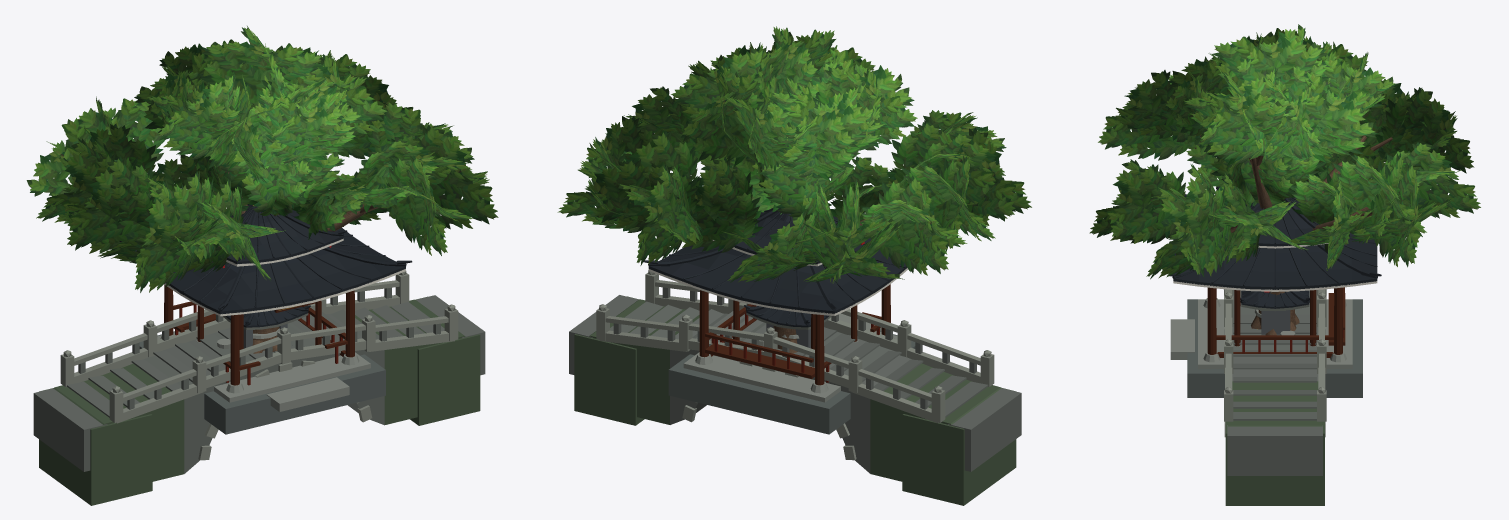
File: v060_jiangnan_assets.glb
The picture shows the model from 3 angles, left to right: view 1: azimuth 30°, elevation 25°; view 2: azimuth 150°, elevation 25°; view 3: azimuth 270°, elevation 25°; orthographic projection. The views are drawn at different scales.
Visible parts, largest first — view 1: ancient_camphor, stone_arch_bridge, wangdao_pavilion, wayside_shrine, poem_stele_pavilion; view 2: ancient_camphor, stone_arch_bridge, wangdao_pavilion, wayside_shrine, poem_stele_pavilion; view 3: ancient_camphor, stone_arch_bridge, wangdao_pavilion, wayside_shrine, poem_stele_pavilion.
Boxes of the visible parts, x1,y1,x2,y2 form: ancient_camphor: (26, 26, 498, 353); stone_arch_bridge: (33, 271, 485, 505); wangdao_pavilion: (119, 204, 412, 434); wayside_shrine: (223, 305, 310, 348); poem_stele_pavilion: (196, 300, 321, 352); ancient_camphor: (557, 26, 1031, 353); stone_arch_bridge: (569, 270, 1021, 505); wangdao_pavilion: (643, 208, 927, 434); wayside_shrine: (744, 305, 831, 348); poem_stele_pavilion: (733, 300, 858, 349); ancient_camphor: (1089, 24, 1480, 335); stone_arch_bridge: (1224, 289, 1326, 505); wangdao_pavilion: (1169, 186, 1381, 397); wayside_shrine: (1240, 290, 1309, 334); poem_stele_pavilion: (1234, 290, 1316, 346).
Bounding box in the file's own units: 11.43 × 10.66 × 10.59.
31 materials, 5 textured.
